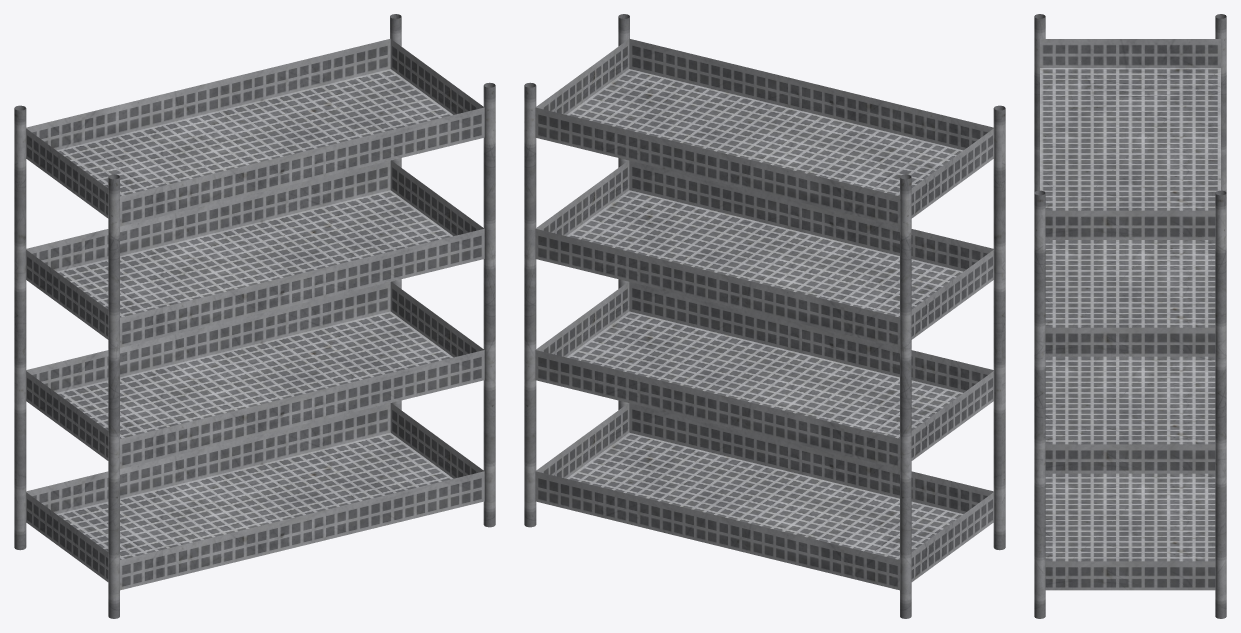
3 views of the same model, side by side, from view 1: azimuth 30°, elevation 25°; view 2: azimuth 150°, elevation 25°; view 3: azimuth 270°, elevation 25° (orthographic). The views are drawn at different scales.
Parts seen in each view (by area): view 1: Material2 (×2); view 2: Material2 (×2); view 3: Material2 (×2).
Part boxes in pixels (left/top/right/bottom): Material2 (×2): left=14, top=14, right=495, bottom=618; Material2 (×2): left=524, top=14, right=1005, bottom=618; Material2 (×2): left=1034, top=14, right=1226, bottom=618.
Bounding box in the file's own units: 67.55 × 73.56 × 30.29.
2 materials, 2 textured.
